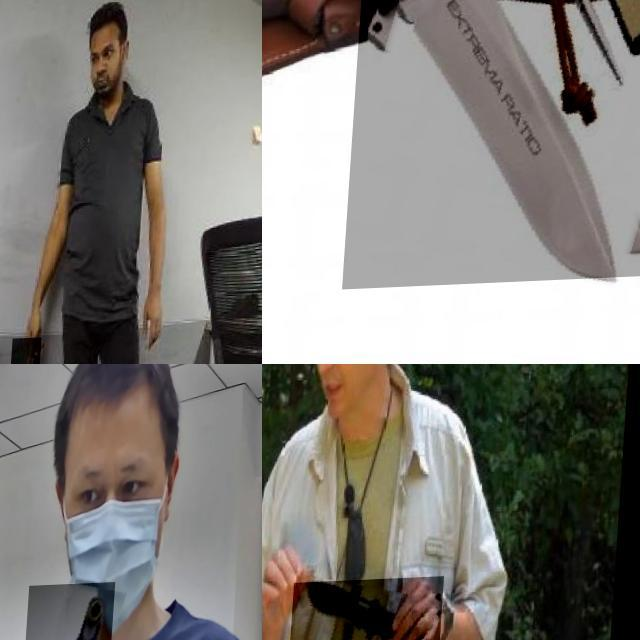-: (349, 0, 640, 292), (295, 580, 449, 640), (15, 339, 47, 364)
gun-knife-thesis - v11 Yolov5 augmented: (22, 585, 120, 640)
